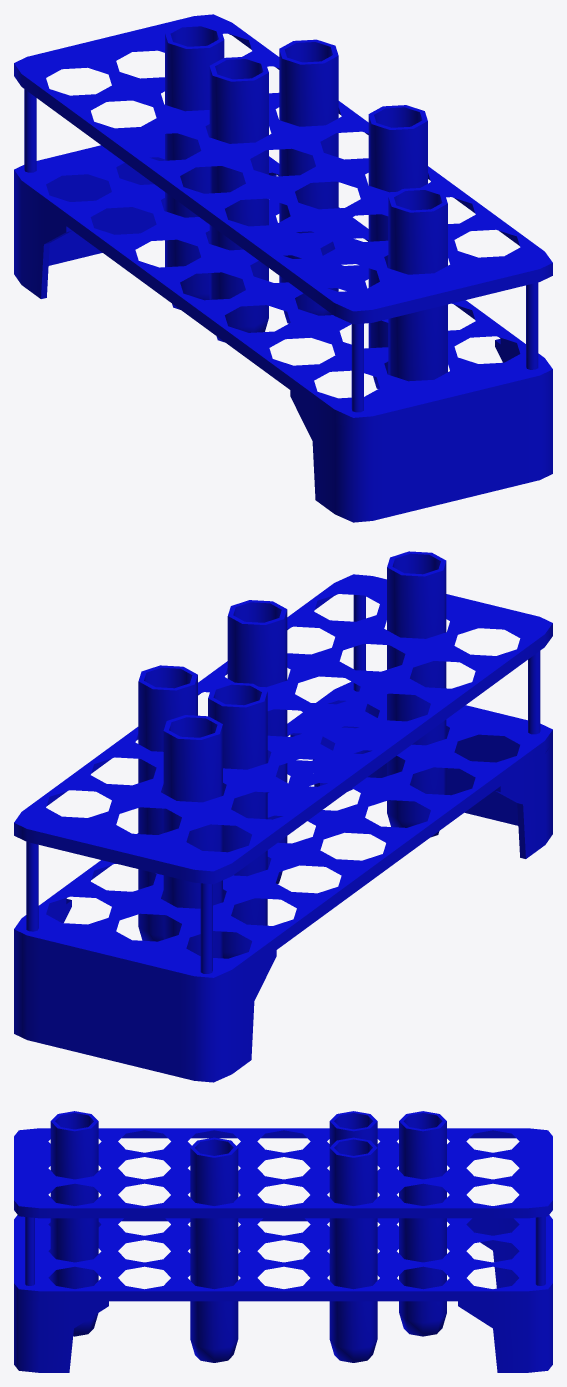
File: TTR_1.FBX
The picture shows the model from 3 angles, top to bottom: view 1: azimuth 30°, elevation 25°; view 2: azimuth 150°, elevation 25°; view 3: azimuth 270°, elevation 25°; orthographic projection. The views are drawn at different scales.
Visible parts, largest first — view 1: TestTube_Rack_1; view 2: TestTube_Rack_1; view 3: TestTube_Rack_1.
Boxes of the visible parts, x1,y1,x2,y2 form: TestTube_Rack_1: (14,14,552,522); TestTube_Rack_1: (14,551,552,1082); TestTube_Rack_1: (14,1111,552,1372).
Size of the model in its own units: 1.75 by 2.16 by 4.97.
